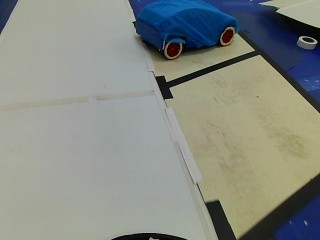car: (127, 0, 242, 61)
